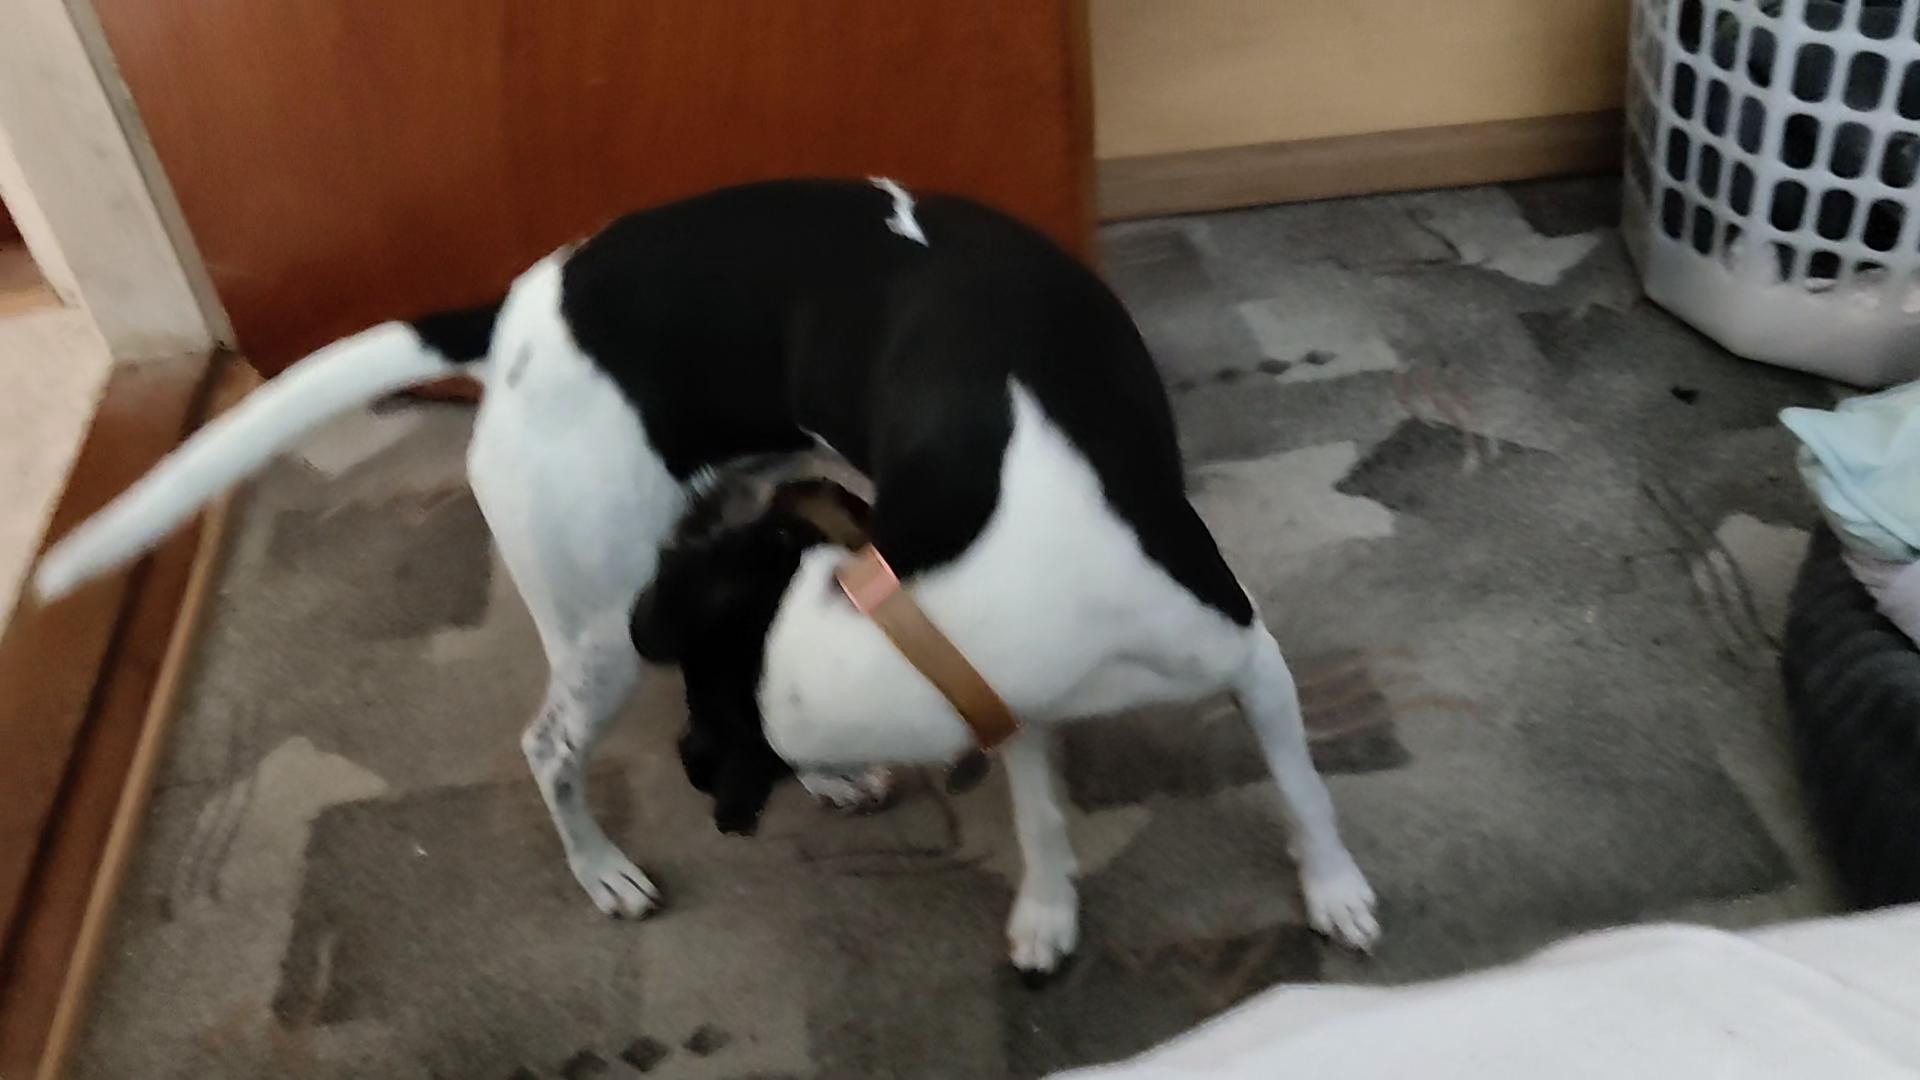Dog: (18, 142, 1419, 992)
